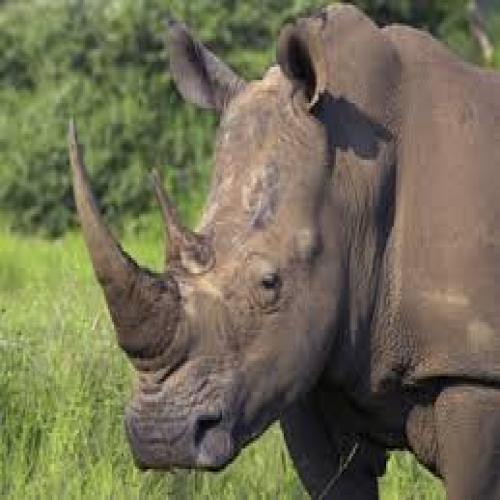rhino-endangered: (61, 3, 495, 488)
